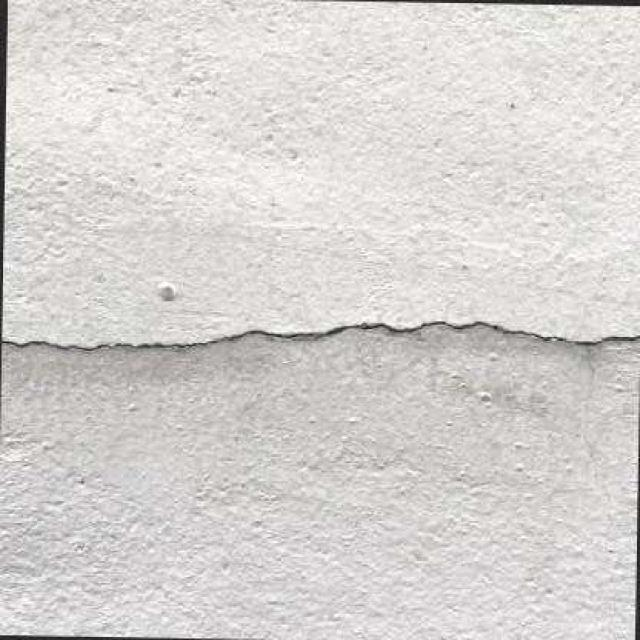D00: (0, 320, 640, 352)
